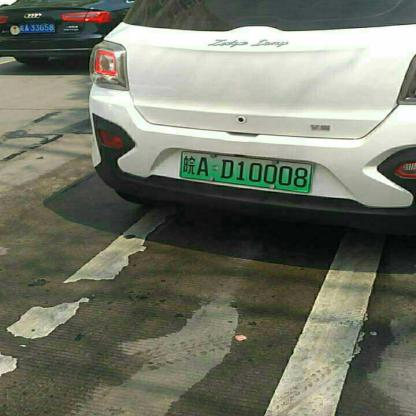lp: (178, 150, 313, 192)
